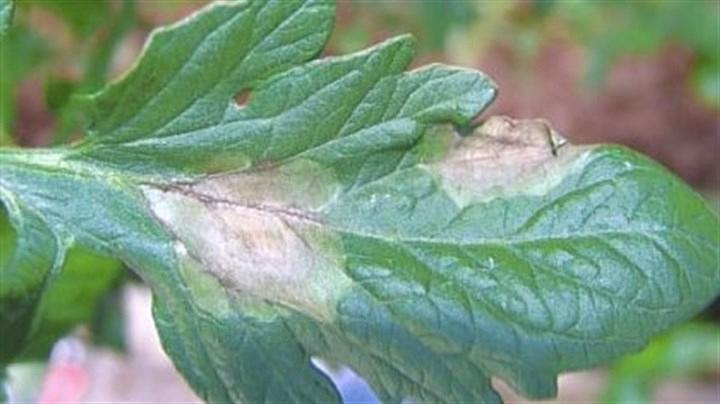Tomato leaf late blight: (32, 3, 712, 401)
